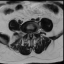CCS_normal: (30, 31, 31, 38)
LFS_severe_stenosis: (33, 30, 34, 34)
LLS_severe_stenosis: (31, 31, 33, 35)
RFS_severe_stenosis: (27, 31, 29, 35)
RLS_severe_stenosis: (29, 31, 30, 36)
